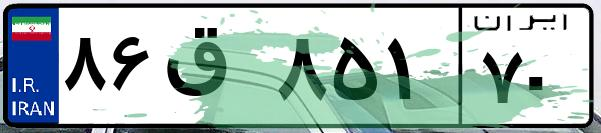0: (525, 38, 570, 115)
1: (385, 28, 445, 110)
5: (330, 28, 385, 110)
6: (110, 28, 158, 98)
7: (475, 38, 525, 113)
8: (270, 28, 330, 110), (57, 26, 110, 100)
ق: (158, 20, 270, 120)
